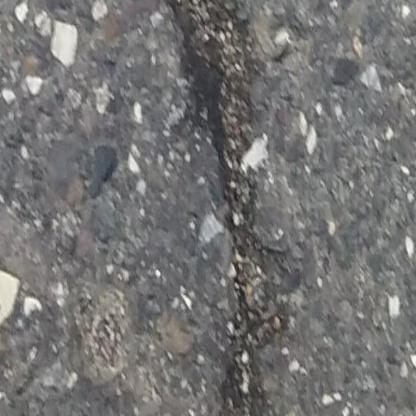Cracks: (162, 0, 303, 416)
